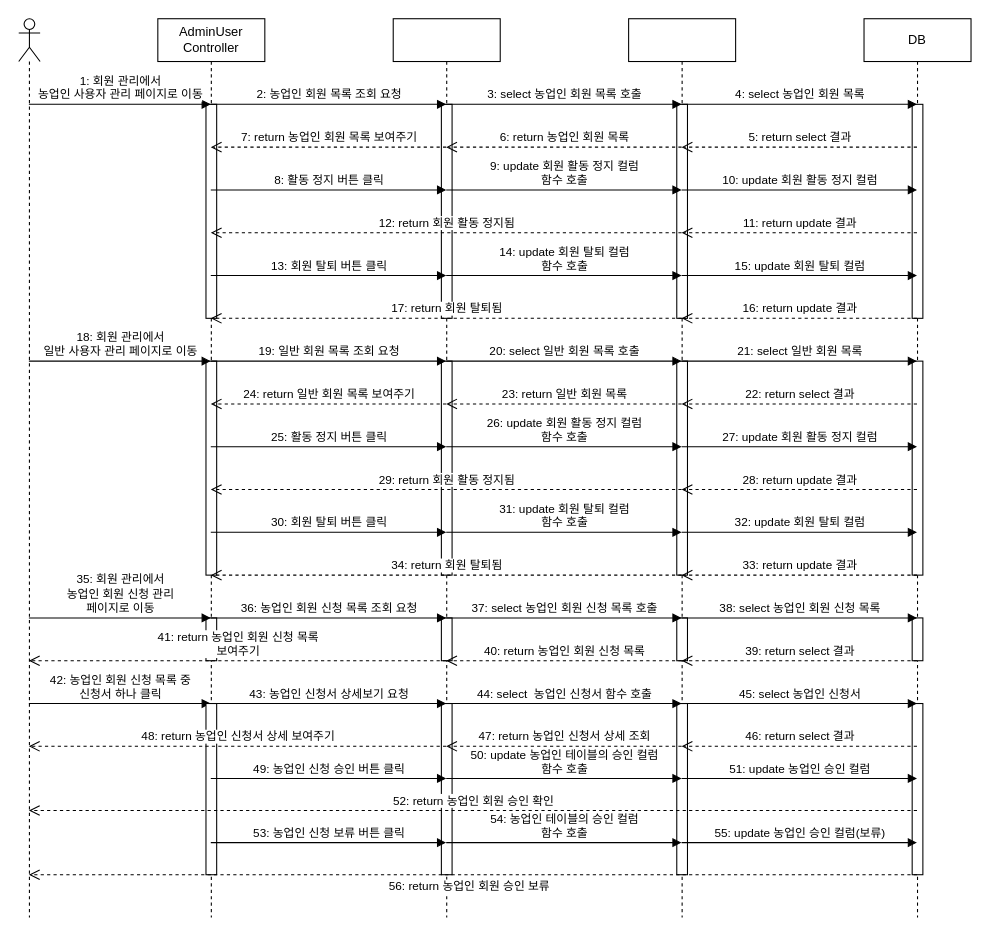
Some shapes in this 990 by 936 pixel diagram are drawn without their labels. The box of each missing label's shape, as (x1, y1, x2, y2) in pixels:
Dao: (628, 18, 736, 918)
Service: (392, 18, 500, 918)
